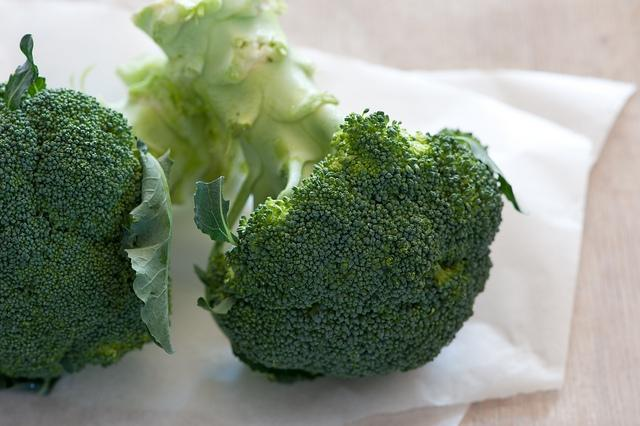broccoli: (115, 0, 528, 384), (0, 87, 153, 379)
